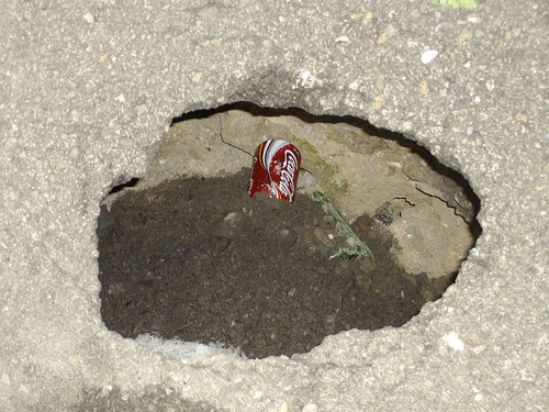pothole: (84, 91, 485, 365)
